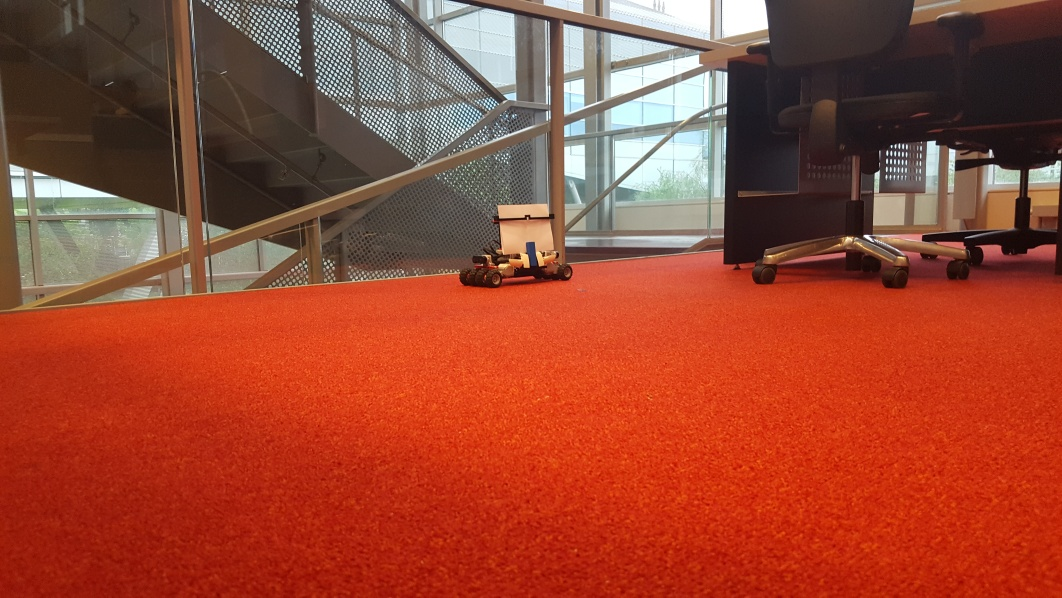car: (459, 203, 575, 290)
